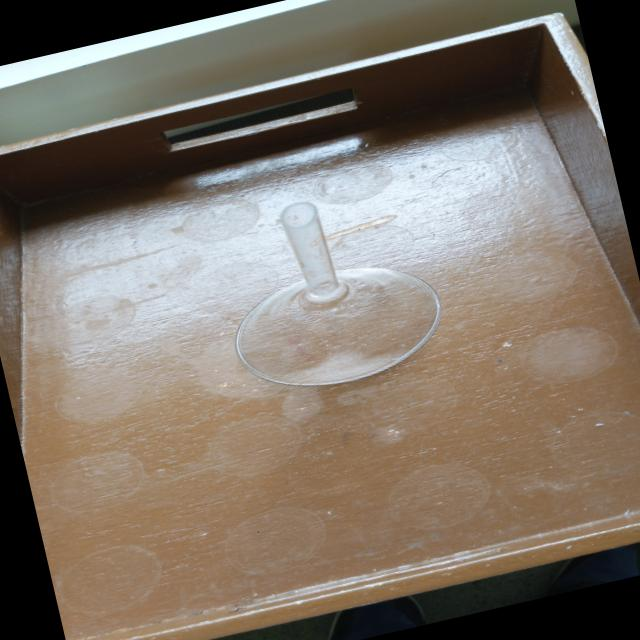funnel: (175, 168, 477, 413)
